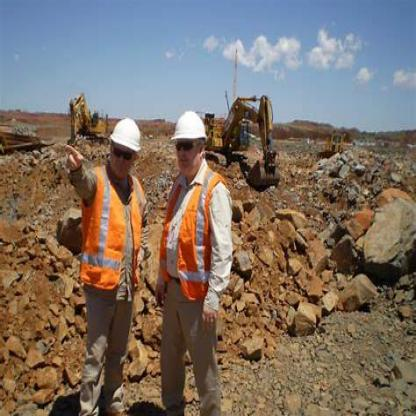person: (148, 82, 257, 414), (58, 106, 145, 415)
